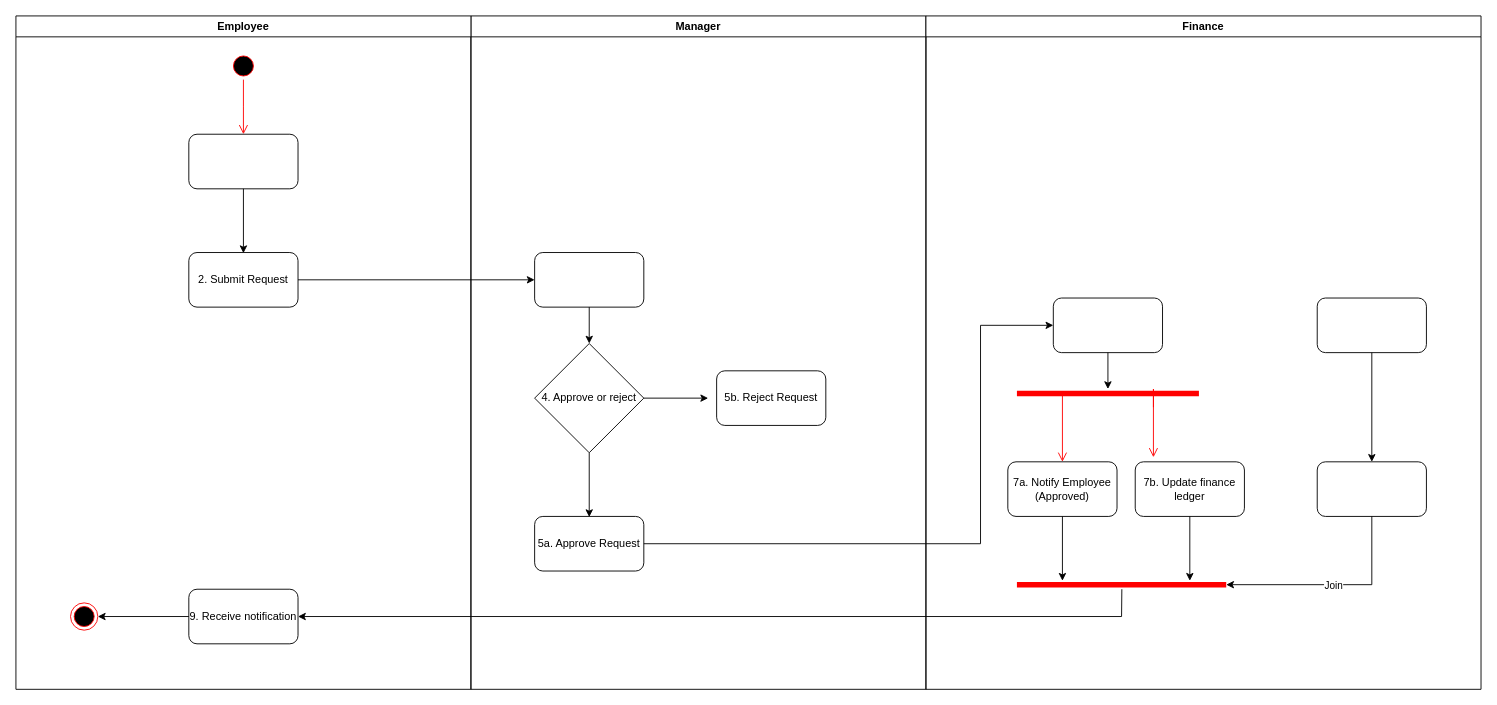
Image size: 1497x705. Some labels were removed from this diagram. Each missing label, with the box of its shape:
1. Raise Expense request: (188, 133, 298, 189)
3. Review Expense request: (534, 252, 644, 307)
6a. Process Reimbursement: (1052, 297, 1163, 353)
6b. Record rejection: (1316, 297, 1426, 353)
7c. Notify employee (Rejected): (1316, 461, 1426, 516)
